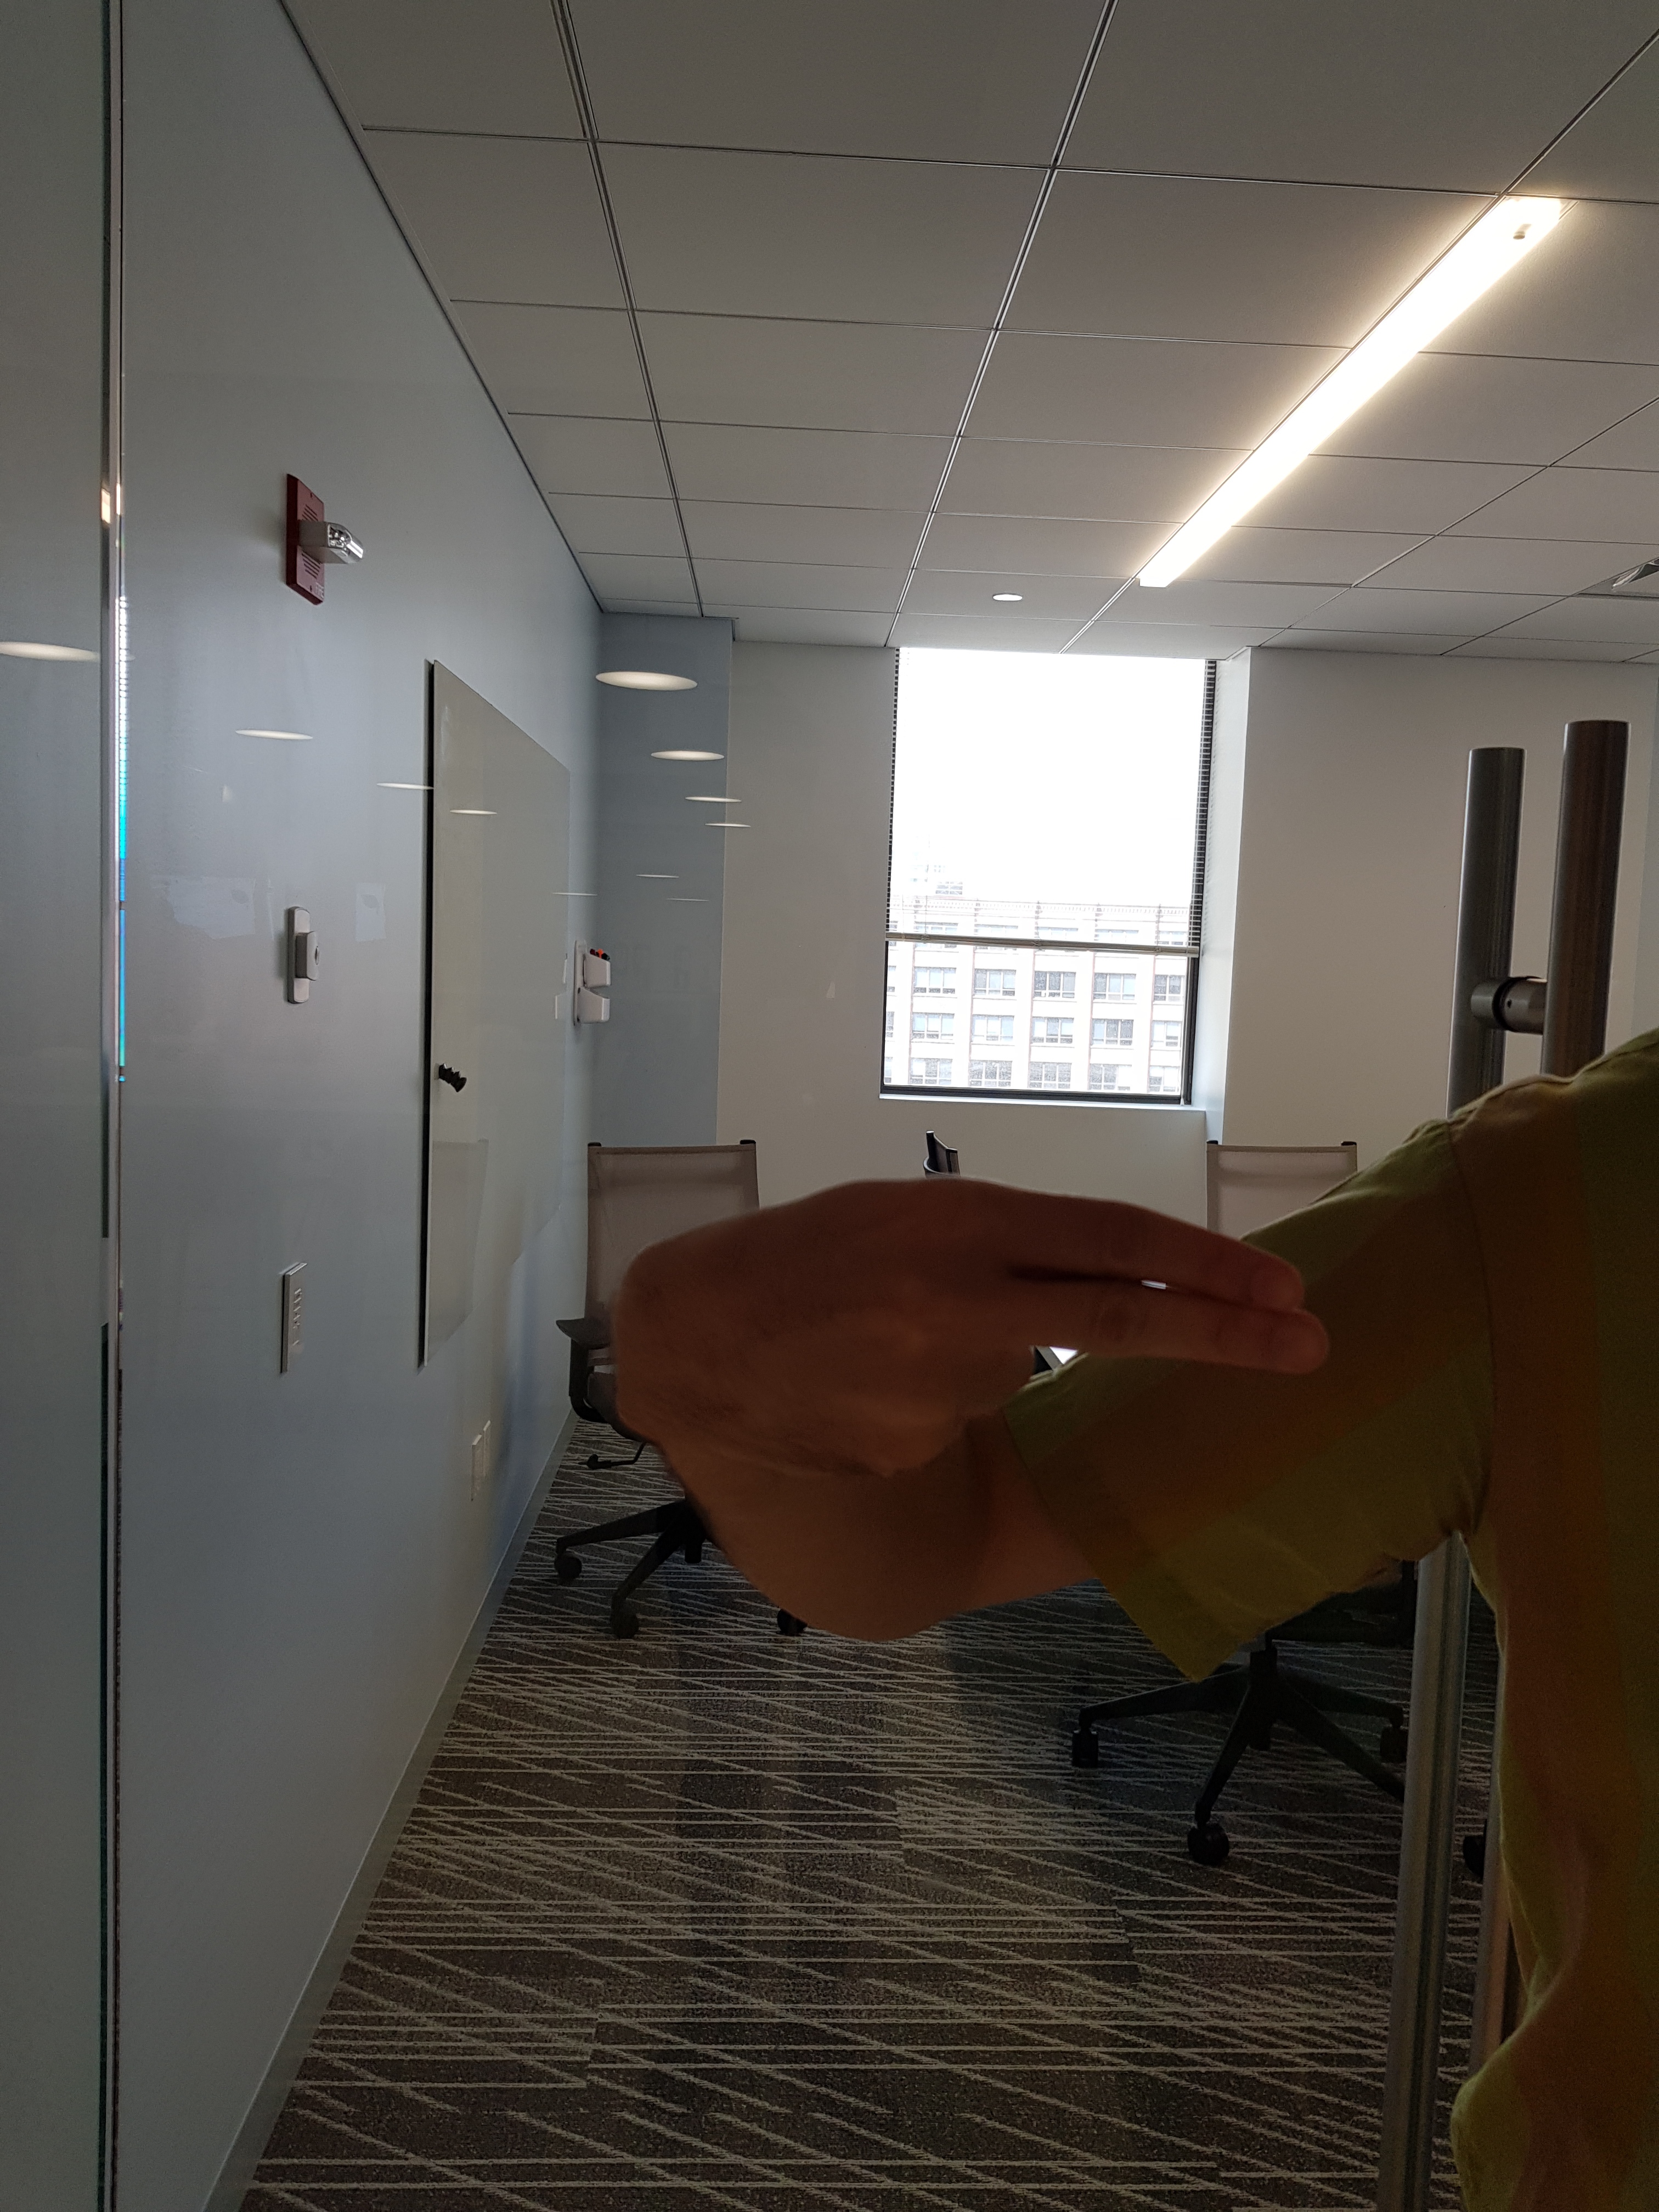h: (568, 1160, 1354, 1515)
